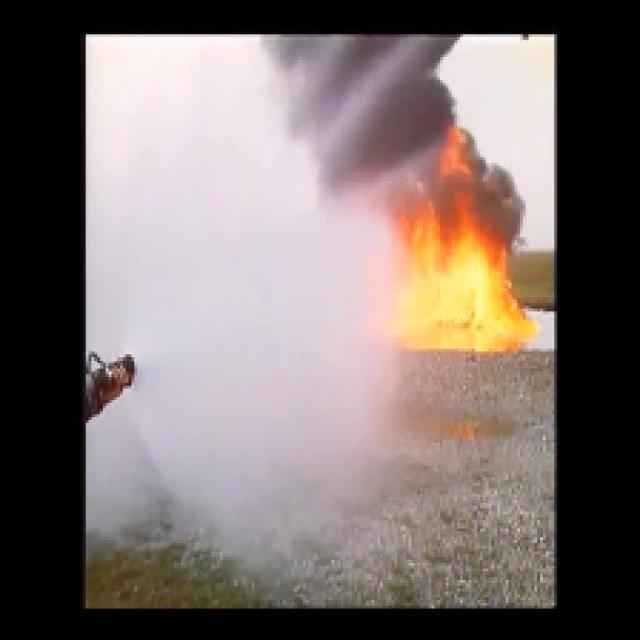Fire: (418, 247, 528, 350)
Smoke: (308, 39, 435, 140)
